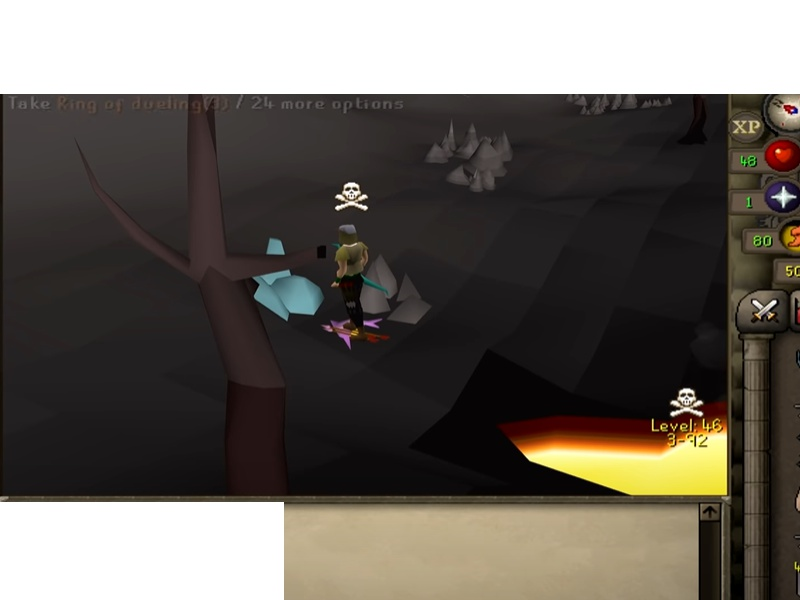rune: (249, 234, 328, 323)
